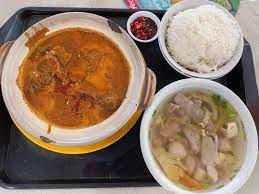Braised Crucian Carp: (1, 11, 155, 151), (138, 77, 257, 192), (158, 0, 244, 79)
